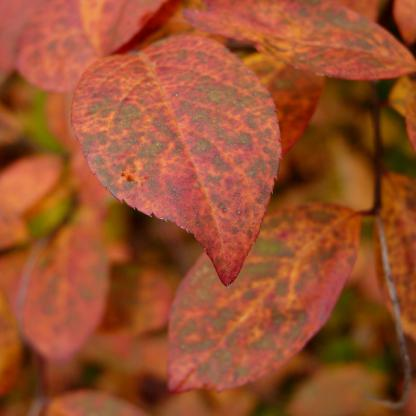blueberry leaf: (70, 30, 272, 302), (163, 202, 371, 397), (188, 2, 415, 85)
